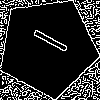I: (22, 22, 70, 56)
